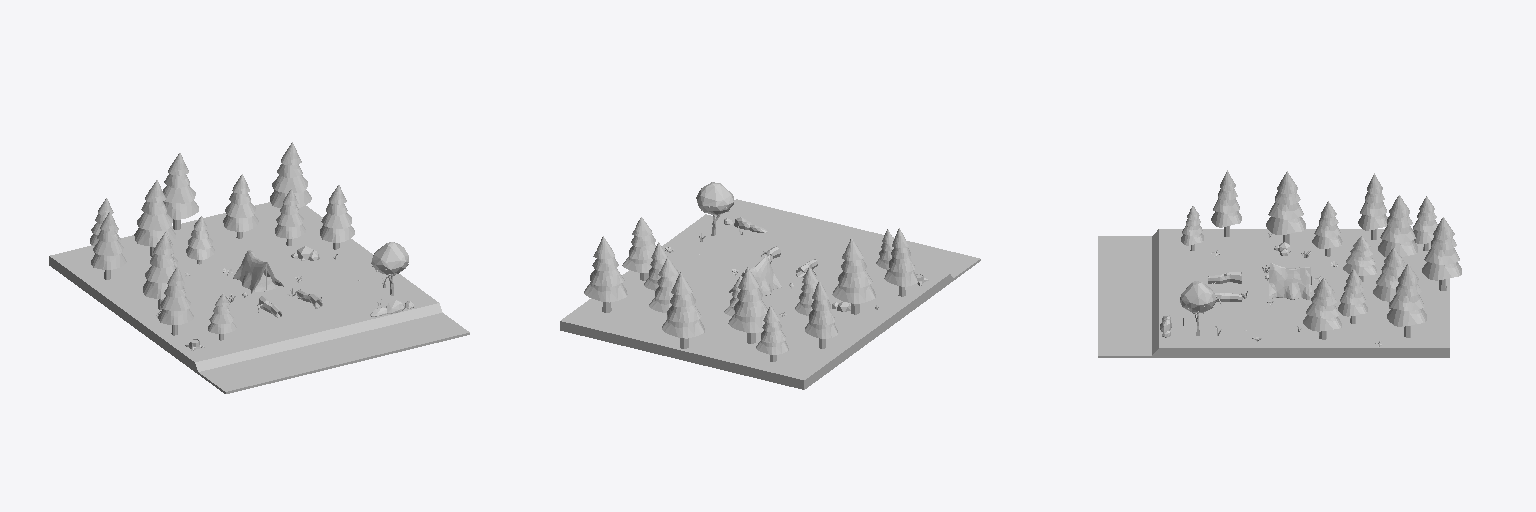
The model's file is campsiteX.obj.
3 views of the same model, side by side, from view 1: azimuth 30°, elevation 25°; view 2: azimuth 150°, elevation 25°; view 3: azimuth 270°, elevation 25° (orthographic).
Visible parts, largest first — view 1: Cube, Pine_Tree.004, Pine_Tree.001, Pine_Tree.011, Pine_Tree.002, Pine_Tree.010, Pine_Tree.003, Pine_Tree, Pine_Tree.014, Plane.001_Plane.001, Icosphere.004, Pine_Tree.013 (+2 smaller); view 2: Cube, Pine_Tree.001, Pine_Tree.011, Pine_Tree.002, Pine_Tree.004, Pine_Tree, Pine_Tree.010, Pine_Tree.003, Icosphere.004, Pine_Tree.007, Pine_Tree.014, Plane.001_Plane.001 (+1 smaller); view 3: Cube, Pine_Tree.001, Pine_Tree.011, Pine_Tree.002, Pine_Tree.004, Plane.001_Plane.001, Pine_Tree.003, Pine_Tree, Pine_Tree.010, Pine_Tree.014, Icosphere.004, Pine_Tree.006 (+4 smaller).
Part boxes in pixels (bbox=[...]): Cube: bbox=[49, 202, 469, 393]; Pine_Tree.004: bbox=[134, 180, 175, 256]; Pine_Tree.001: bbox=[163, 153, 198, 229]; Pine_Tree.011: bbox=[270, 142, 311, 207]; Pine_Tree.002: bbox=[143, 233, 184, 309]; Pine_Tree.010: bbox=[91, 211, 126, 279]; Pine_Tree.003: bbox=[320, 185, 354, 249]; Pine_Tree: bbox=[158, 266, 193, 335]; Pine_Tree.014: bbox=[223, 174, 258, 238]; Plane.001_Plane.001: bbox=[233, 250, 283, 293]; Icosphere.004: bbox=[371, 242, 408, 295]; Pine_Tree.013: bbox=[275, 188, 305, 245]; Cube: bbox=[560, 199, 980, 389]; Pine_Tree.001: bbox=[662, 272, 704, 348]; Pine_Tree.011: bbox=[584, 236, 627, 312]; Pine_Tree.002: bbox=[832, 238, 875, 314]; Pine_Tree.004: bbox=[728, 267, 767, 343]; Pine_Tree: bbox=[884, 228, 917, 296]; Pine_Tree.010: bbox=[805, 280, 837, 348]; Pine_Tree.003: bbox=[622, 217, 655, 280]; Icosphere.004: bbox=[696, 182, 733, 235]; Pine_Tree.007: bbox=[756, 305, 788, 361]; Pine_Tree.014: bbox=[649, 257, 678, 318]; Plane.001_Plane.001: bbox=[729, 255, 781, 295]; Cube: bbox=[1098, 229, 1449, 357]; Pine_Tree.001: bbox=[1422, 217, 1461, 290]; Pine_Tree.011: bbox=[1387, 263, 1426, 337]; Pine_Tree.002: bbox=[1266, 171, 1305, 244]; Pine_Tree.004: bbox=[1378, 195, 1417, 257]; Plane.001_Plane.001: bbox=[1269, 263, 1311, 299]; Pine_Tree.003: bbox=[1303, 278, 1341, 339]; Pine_Tree: bbox=[1211, 170, 1241, 236]; Pine_Tree.010: bbox=[1358, 173, 1387, 239]; Pine_Tree.014: bbox=[1373, 248, 1404, 308]; Icosphere.004: bbox=[1180, 281, 1216, 335]; Pine_Tree.006: bbox=[1312, 201, 1342, 256].
Bounding box in the file's own units: 80.37 × 26.34 × 103.